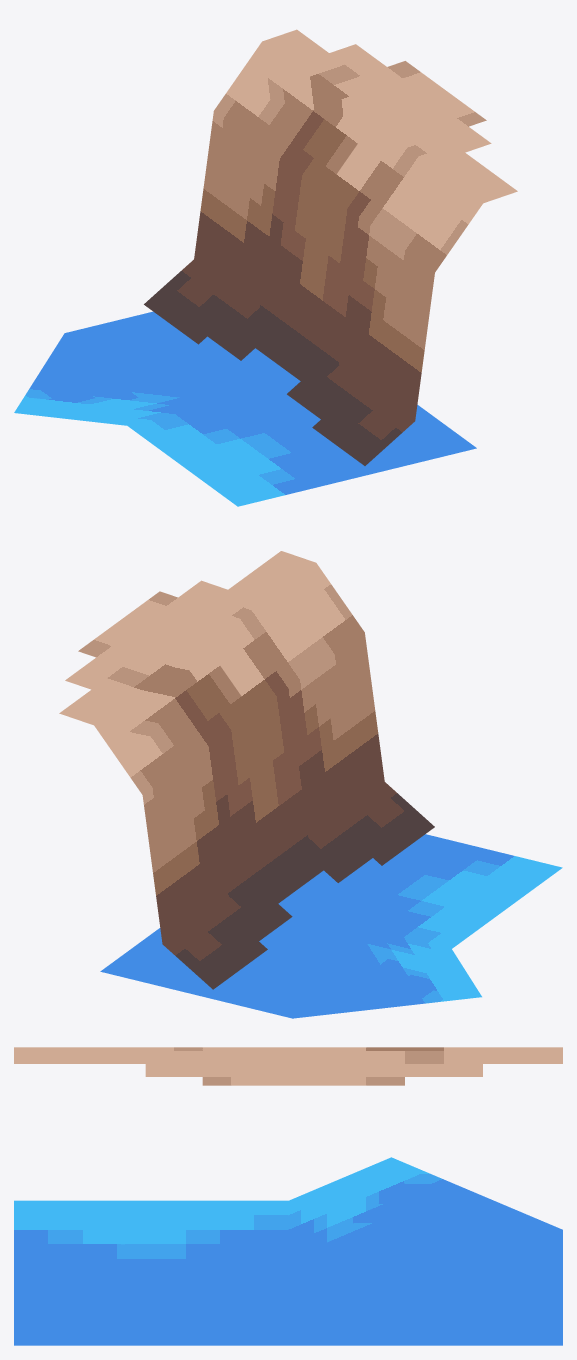
3 renders of one model, top to bottom at view 1: azimuth 30°, elevation 25°; view 2: azimuth 150°, elevation 25°; view 3: azimuth 270°, elevation 25°, orthographic. The views are drawn at different scales.
Size of the model in its own units: 1.04 by 0.627 by 1.
2 materials, 2 textured.
